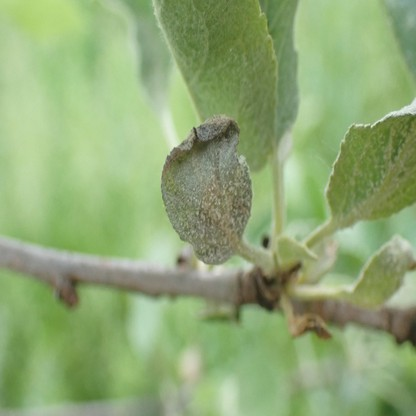powdery_mildew: (152, 0, 277, 171), (161, 115, 253, 263), (328, 99, 416, 225), (378, 233, 416, 287)
